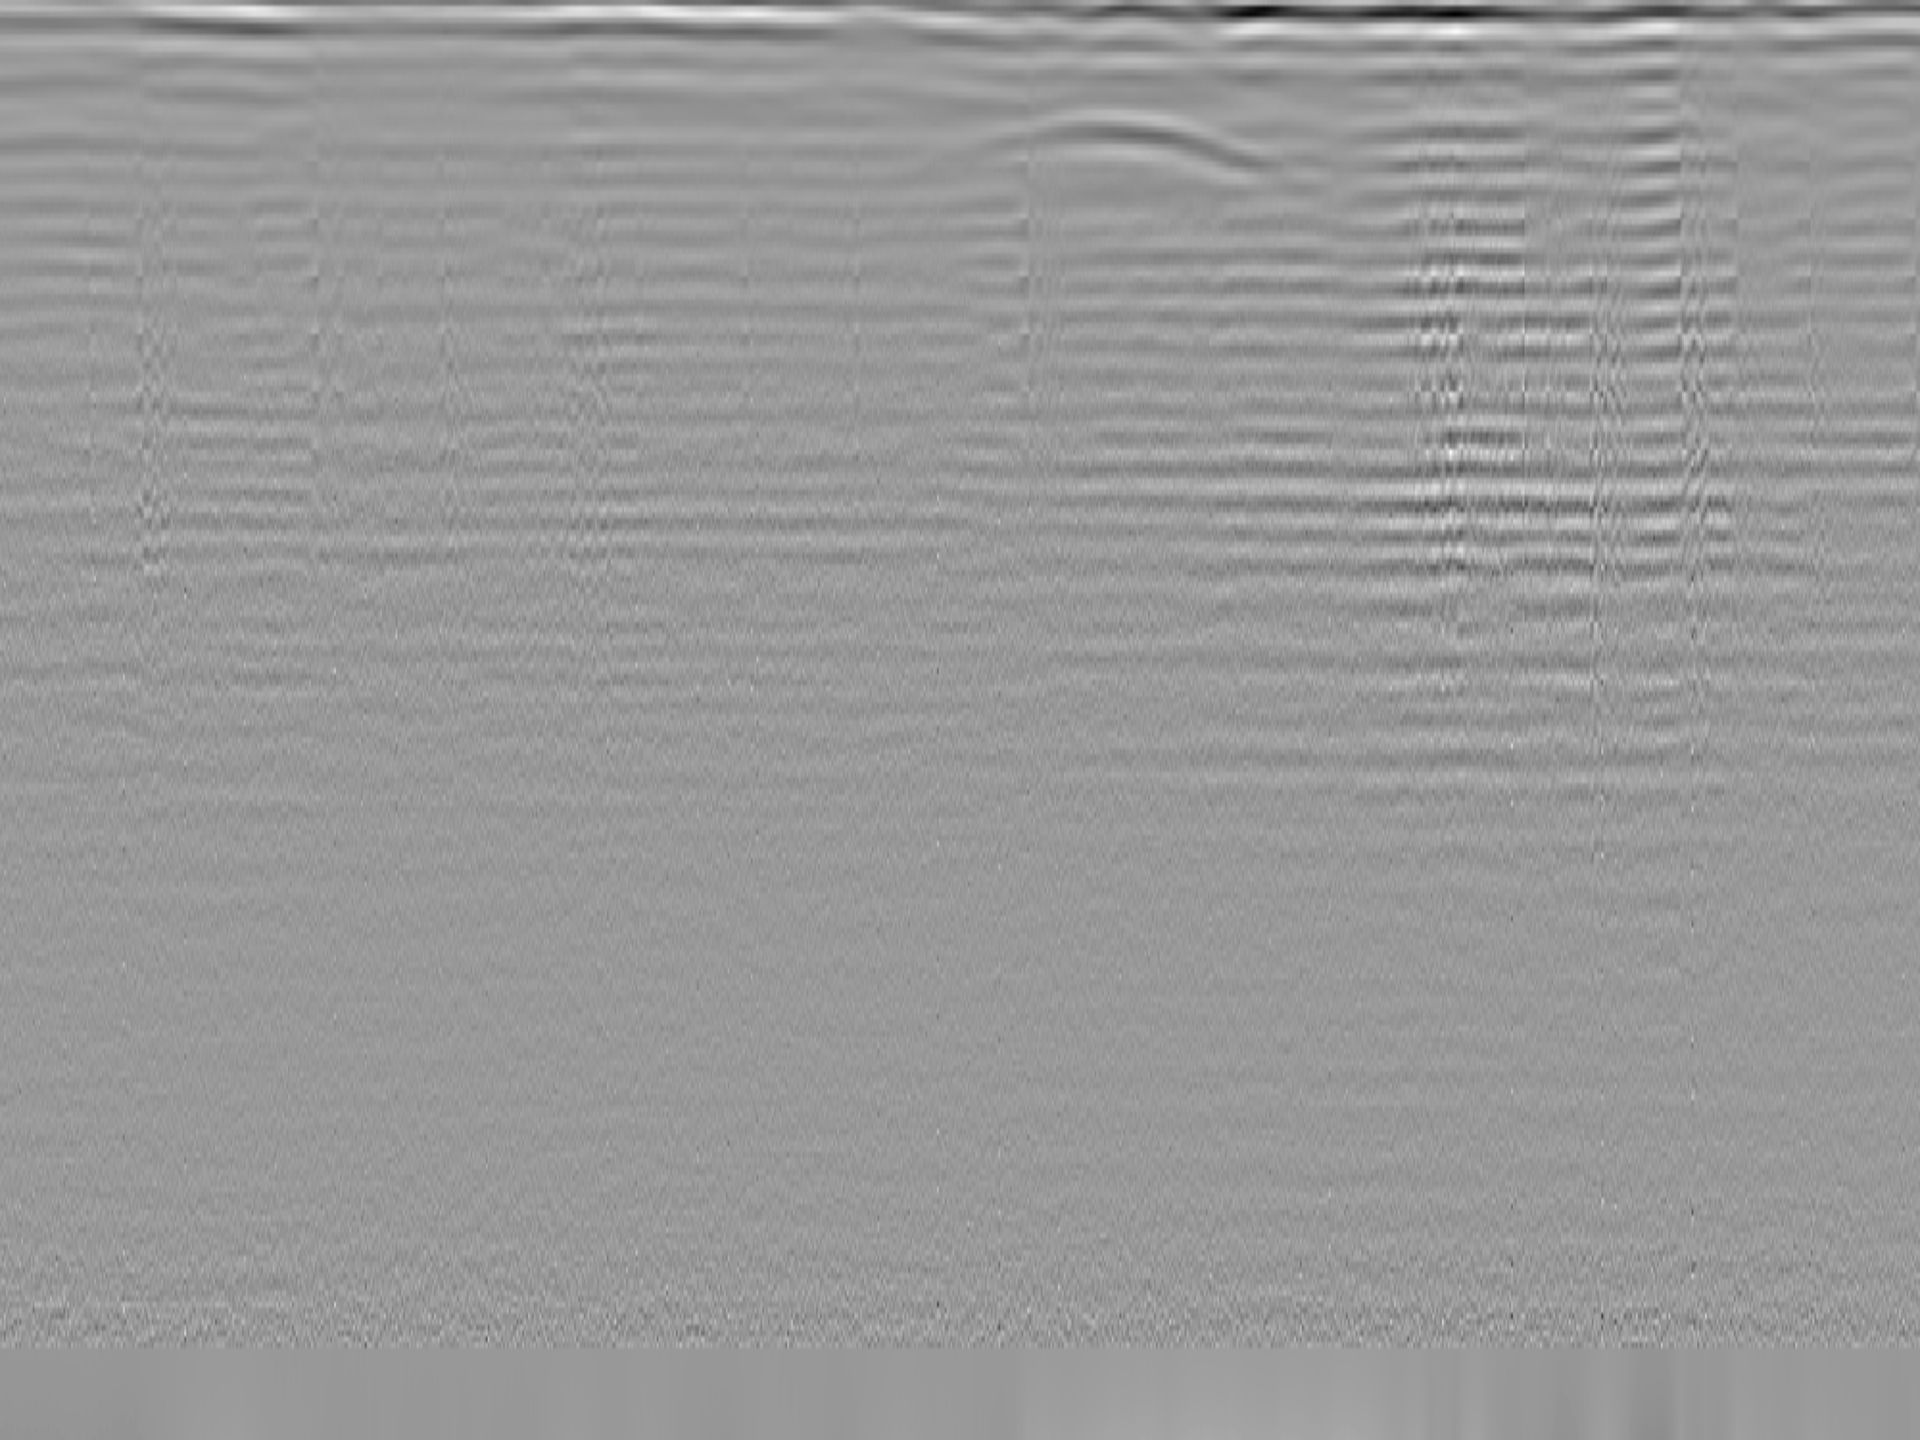Tunnel: (906, 109, 1356, 201)
